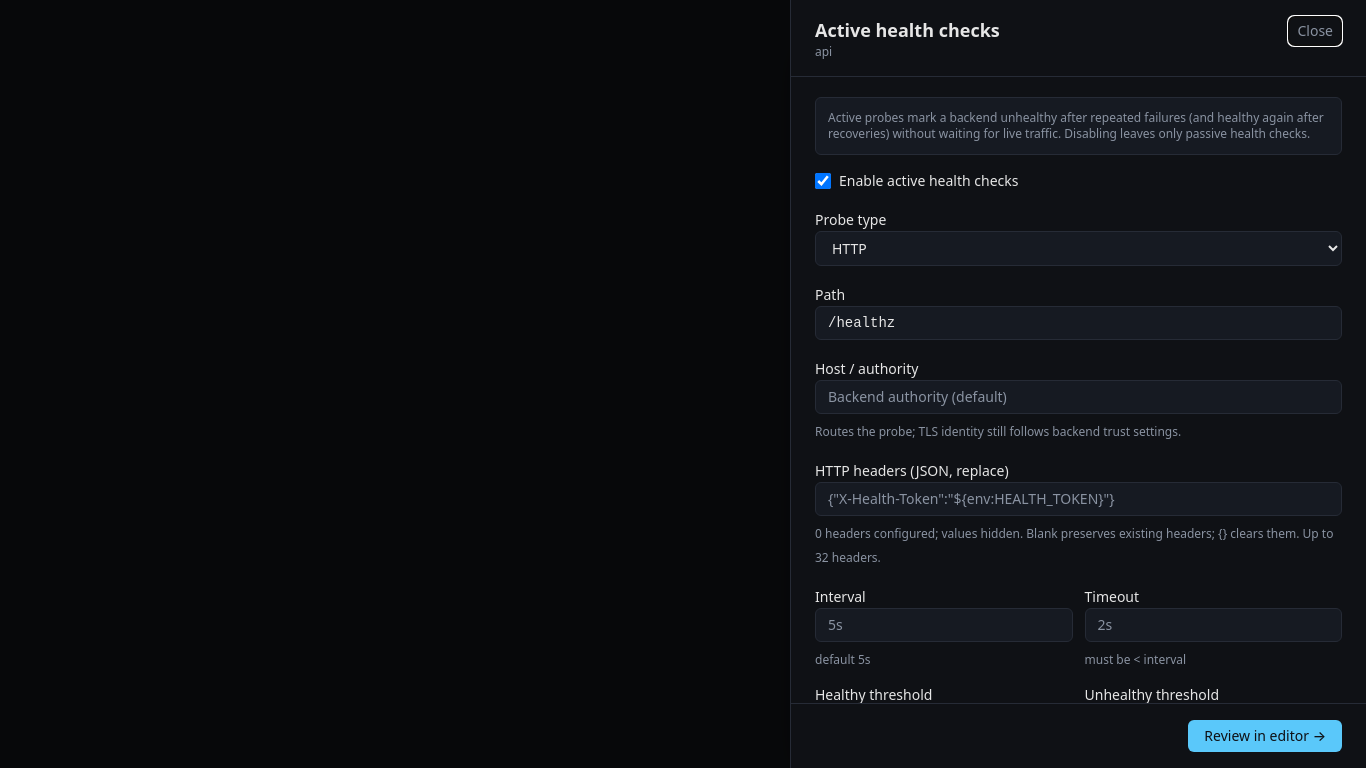
Test case: HealthCheckEditor › preserves the health draft after an authoritative preview rejection
Type "/still-here" into the field labelled "Path" at (1078, 323), box [815,306,1342,340]
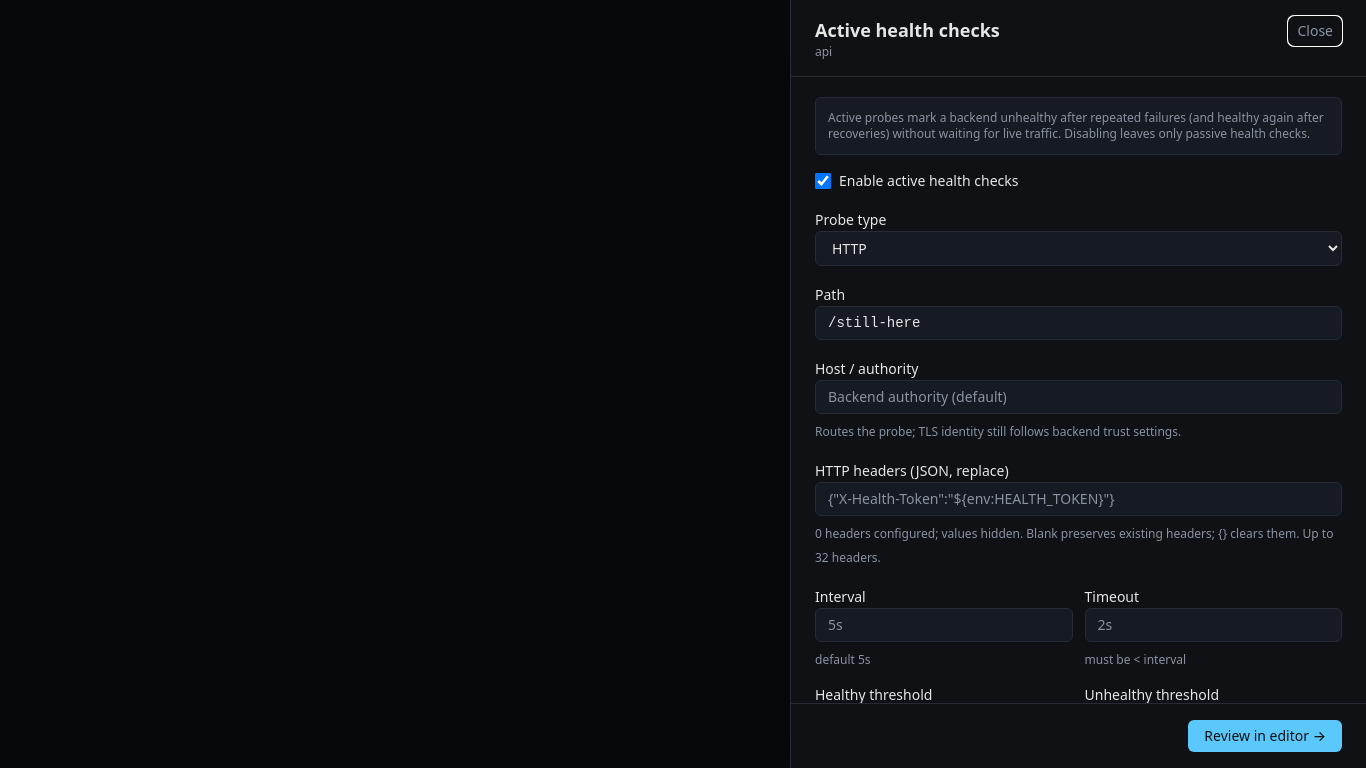
Click the button "Review in editor →" at (1265, 736), box [1188,720,1342,752]
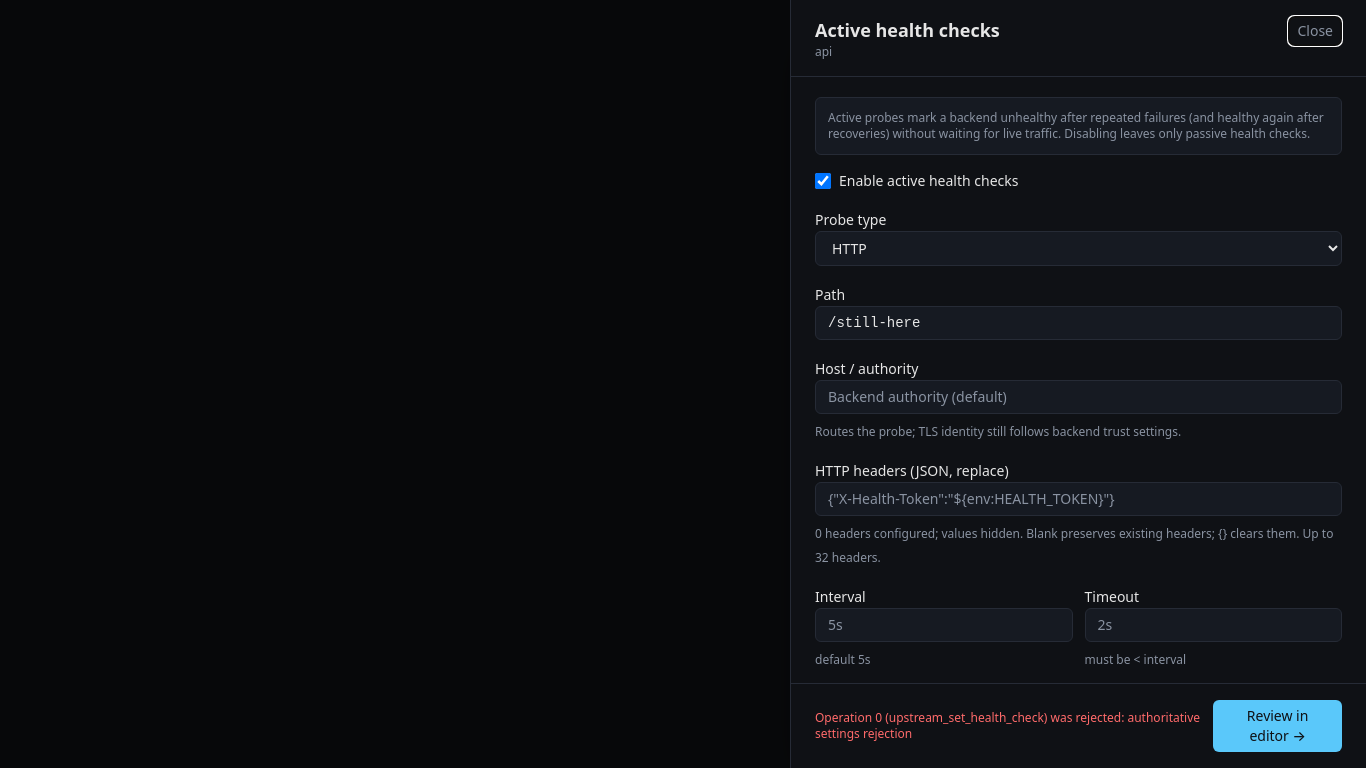
Result: the text "Operation 0 (upstream_set_health_check) was rejected: authoritative settings rejection" is shown at [815,709,1200,742]
